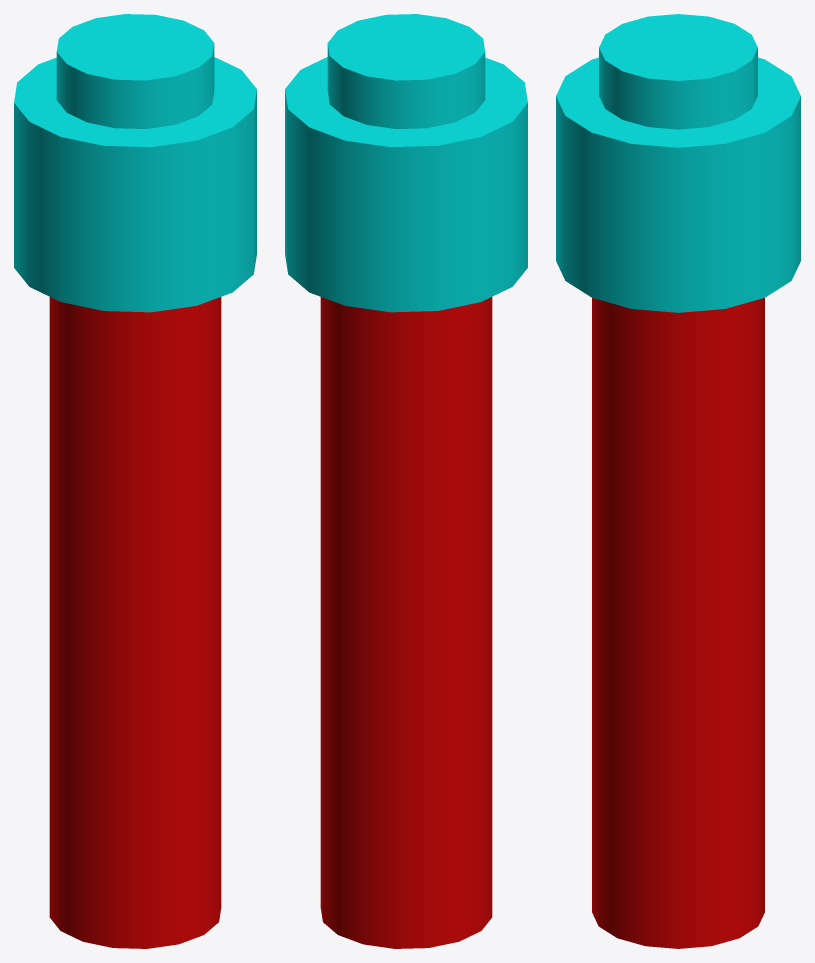
The model's file is Beam.fbx.
3 renders of one model, left to right at view 1: azimuth 30°, elevation 25°; view 2: azimuth 150°, elevation 25°; view 3: azimuth 270°, elevation 25°, orthographic.
Visible parts, largest first — view 1: polySurface1; view 2: polySurface1; view 3: polySurface1.
Part boxes in pixels (left/top/right/bottom): polySurface1: left=14, top=14, right=256, bottom=948; polySurface1: left=285, top=14, right=527, bottom=948; polySurface1: left=556, top=14, right=800, bottom=948.
Bounding box in the file's own units: 2 × 7.79 × 2.
